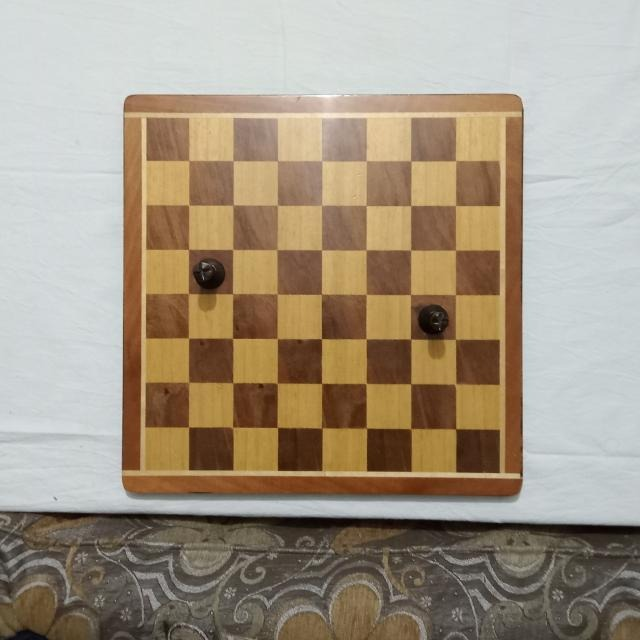black-rook: (192, 257, 227, 291), (419, 302, 452, 335)
